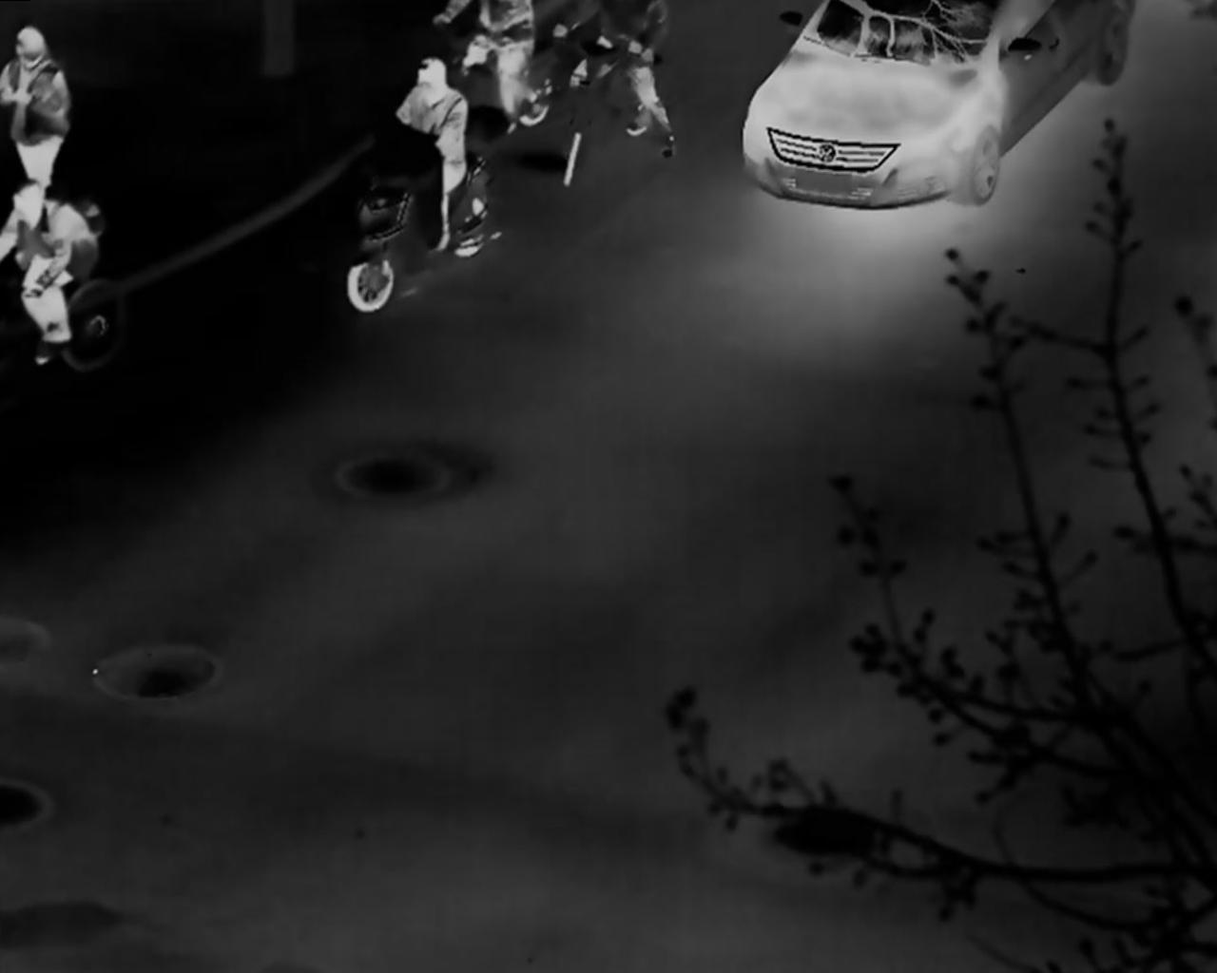person: (564, 6, 687, 163), (392, 56, 471, 252)
